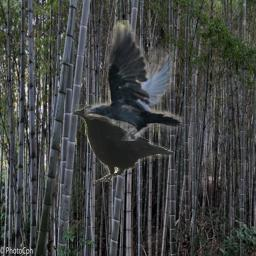Crow: (84, 20, 183, 141), (69, 103, 174, 182)
